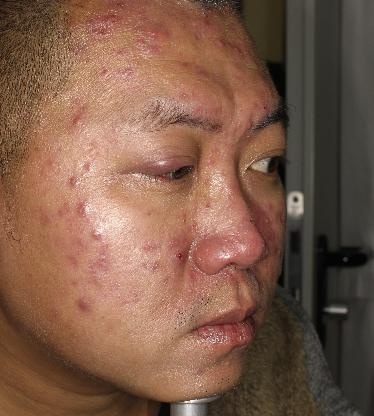Nodules: (72, 197, 101, 224)
Papules: (65, 107, 88, 133), (87, 222, 107, 246), (118, 61, 138, 85), (73, 293, 95, 314), (63, 174, 83, 193), (82, 160, 99, 174)
acne scar: (32, 207, 54, 232)
